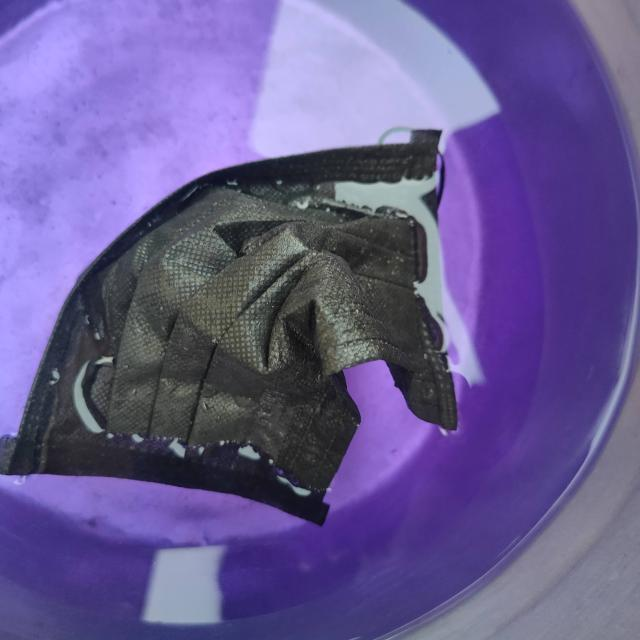mask: (0, 89, 475, 542)
